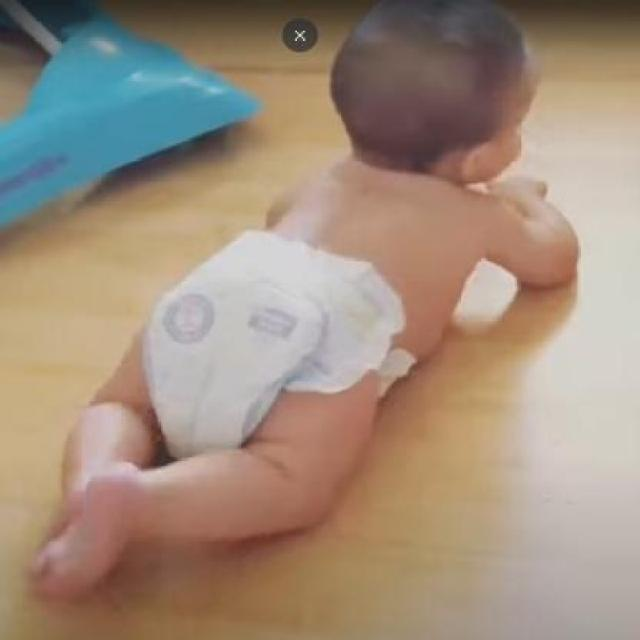baby: (26, 6, 579, 596)
